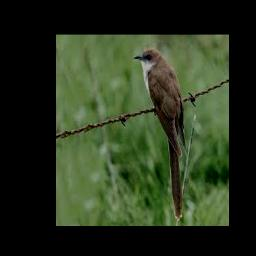Cuckoo: (133, 48, 186, 222)
